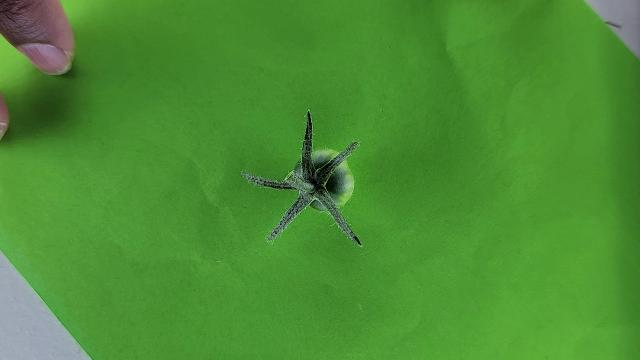Fruit Maturation: (294, 149, 358, 213)
